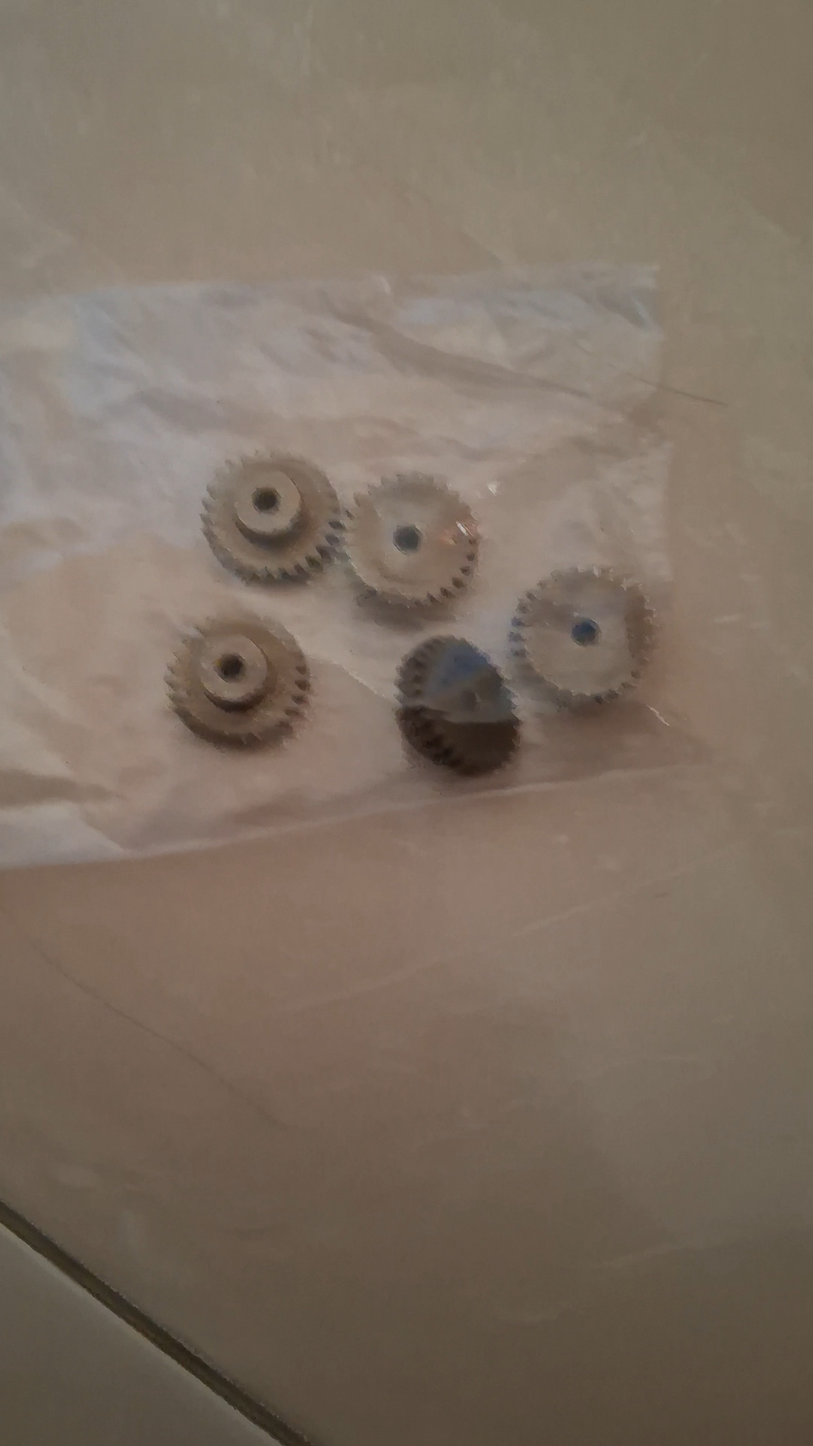spur gear: (510, 568, 653, 707), (167, 618, 309, 746), (202, 453, 342, 582), (344, 473, 478, 606), (397, 637, 519, 775)
